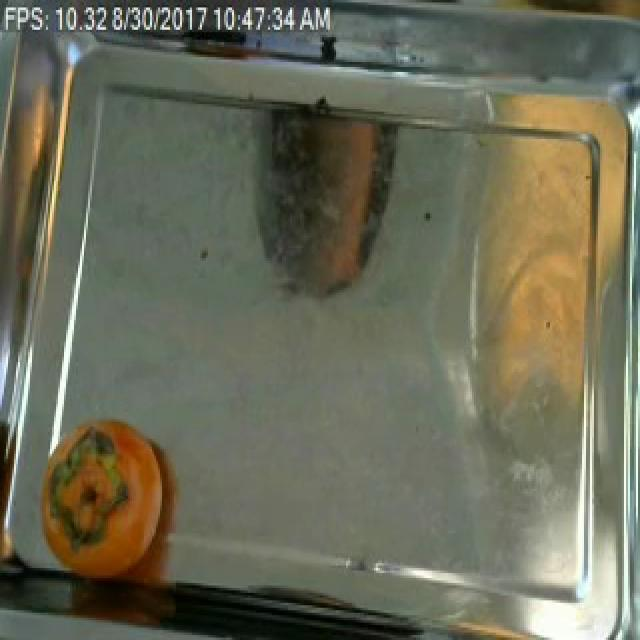Fruit: (460, 119, 606, 461), (42, 404, 146, 546)
